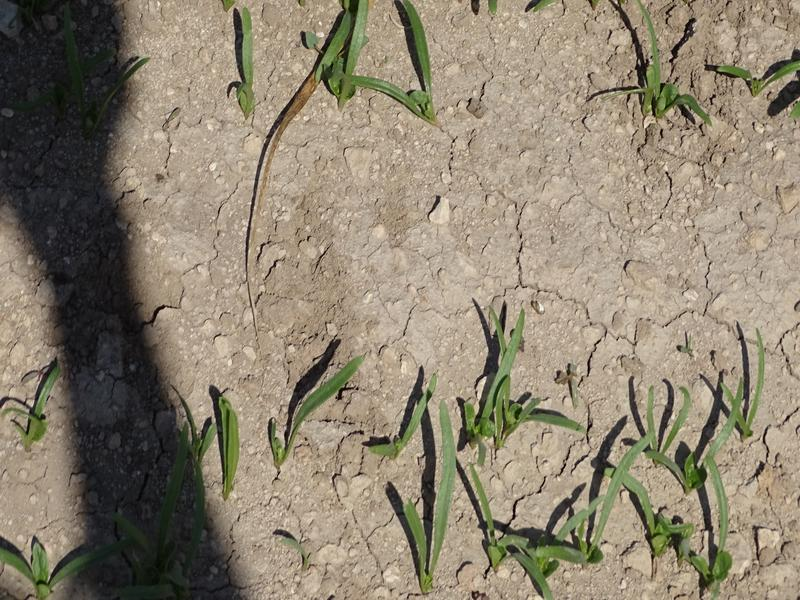Espinaca: (399, 337, 603, 600), (12, 392, 243, 600), (614, 382, 748, 585), (312, 2, 443, 123), (617, 12, 717, 131), (10, 370, 59, 448), (228, 10, 261, 123), (757, 54, 800, 107)
